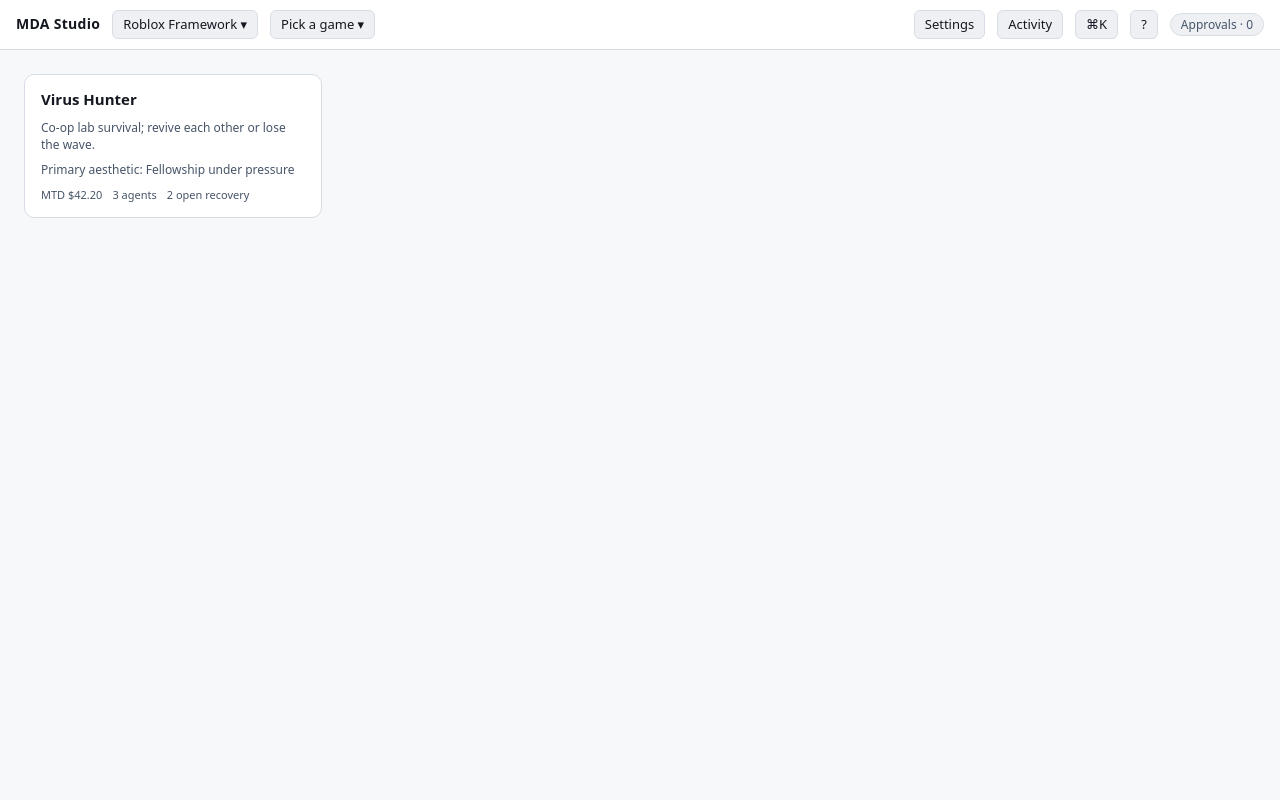
Test: App › opens the NodeDrawer when a spec row is clicked
Click the text "Virus Hunter" at (89, 100), box [41,89,137,111]
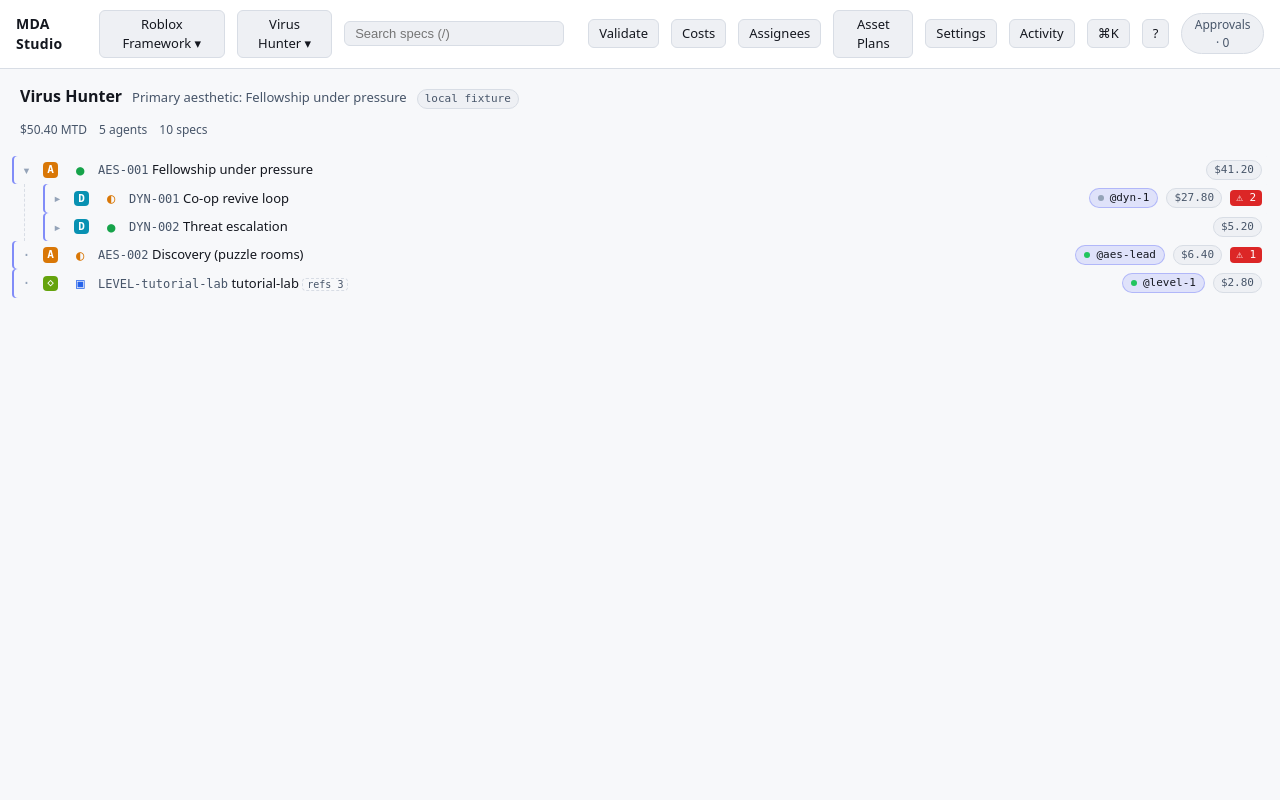
Now the list is shown, box [12,156,1268,298]
Click the text "AES-001" at (123, 170), box [98,164,149,178]
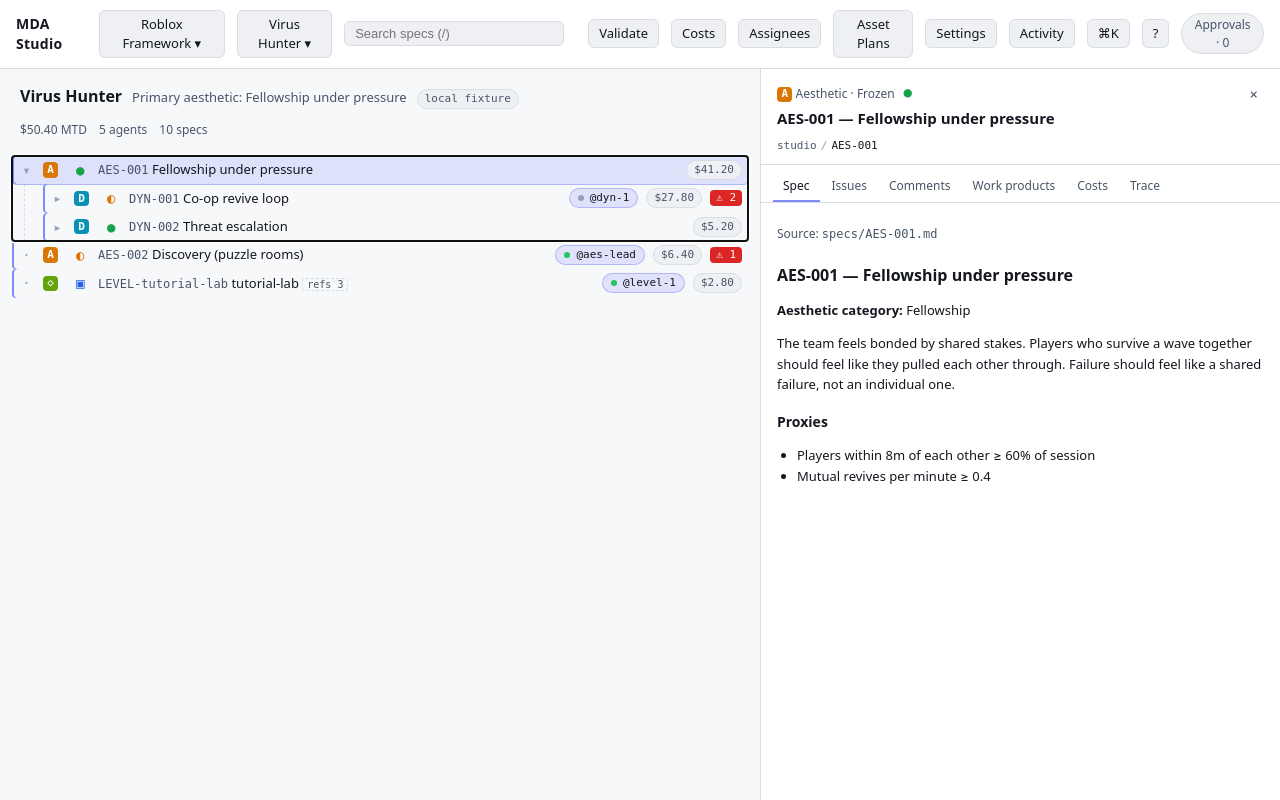
Now the heading "AES-001 — Fellowship under pressure" below "Frozen" is shown, box [777,108,1055,128]
Now the tab "Spec" is shown, box [773,171,820,202]
